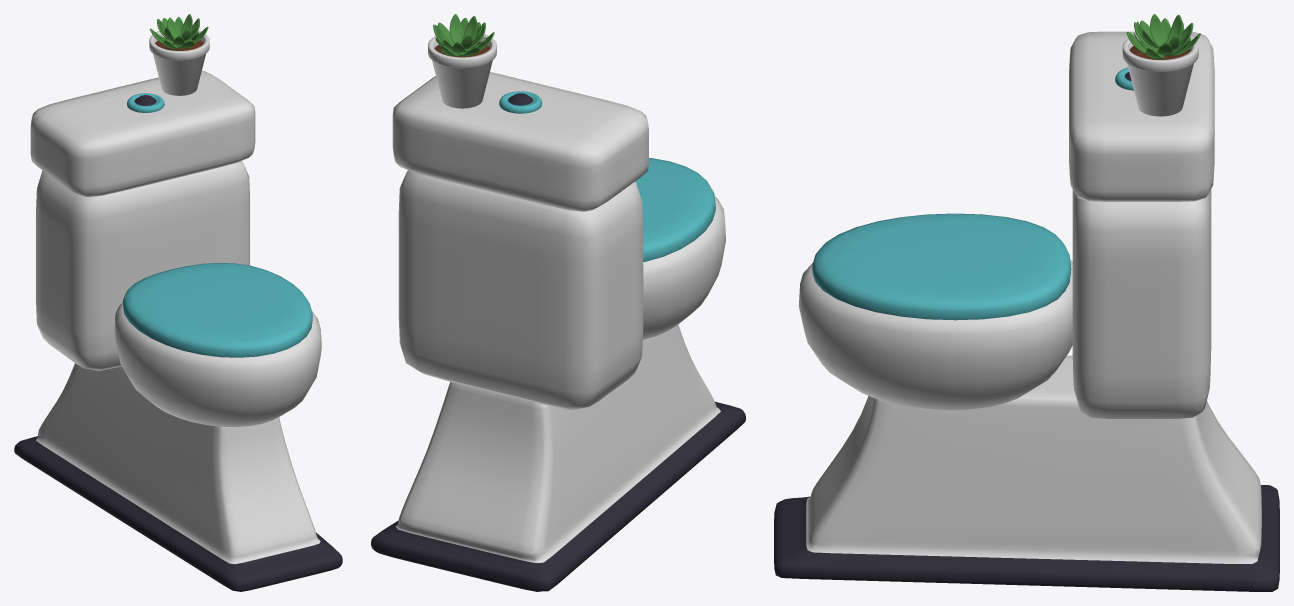
File: Kloset.fbx
3 renders of one model, left to right at view 1: azimuth 30°, elevation 25°; view 2: azimuth 150°, elevation 25°; view 3: azimuth 270°, elevation 25°, orthographic. The views are drawn at different scales.
Parts seen in each view (by area): view 1: Cube.005; view 2: Cube.005; view 3: Cube.005.
Boxes of the visible parts, left/top/right/bottom form: Cube.005: left=14, top=14, right=342, bottom=591; Cube.005: left=371, top=14, right=745, bottom=591; Cube.005: left=774, top=14, right=1279, bottom=591.
Bounding box in the file's own units: 93.51 × 213 × 177.
